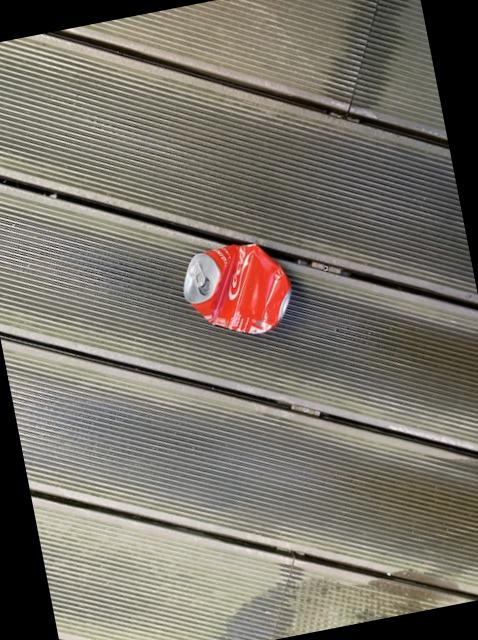metal: (181, 241, 288, 331)
